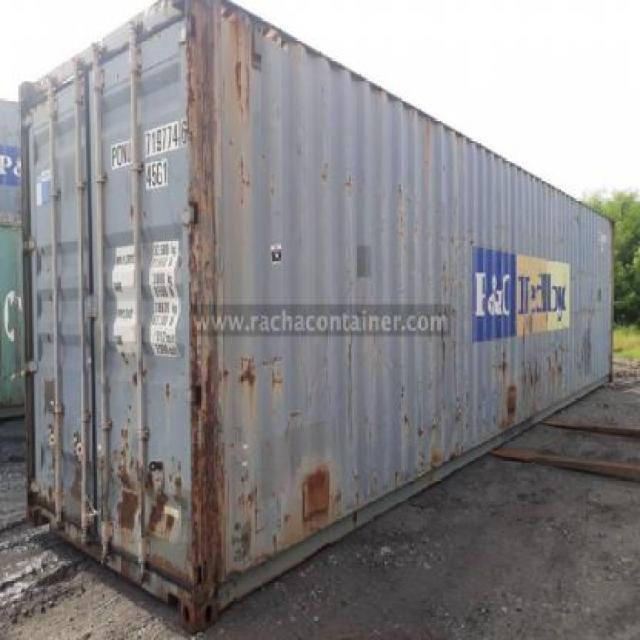Rust: (189, 305, 225, 608), (303, 471, 329, 520), (148, 490, 168, 533), (117, 491, 137, 529), (69, 470, 80, 499), (508, 386, 517, 414)
